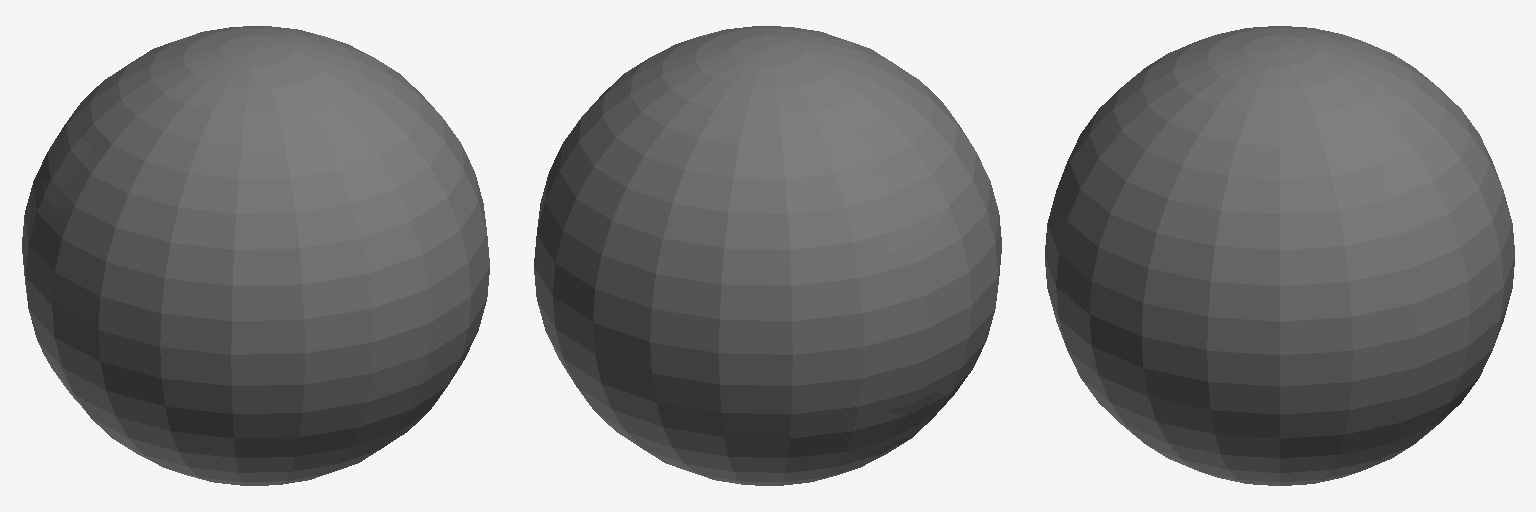
The model's file is Moon.obj.
3 renders of one model, left to right at view 1: azimuth 30°, elevation 25°; view 2: azimuth 150°, elevation 25°; view 3: azimuth 270°, elevation 25°, orthographic.
Visible parts, largest first — view 1: Moon; view 2: Moon; view 3: Moon.
Part boxes in pixels (x1,y1,x2,y2): Moon: (22,26,489,485); Moon: (534,26,1001,485); Moon: (1045,26,1514,485).
Bounding box in the file's own units: 56.07 × 54.55 × 56.07.